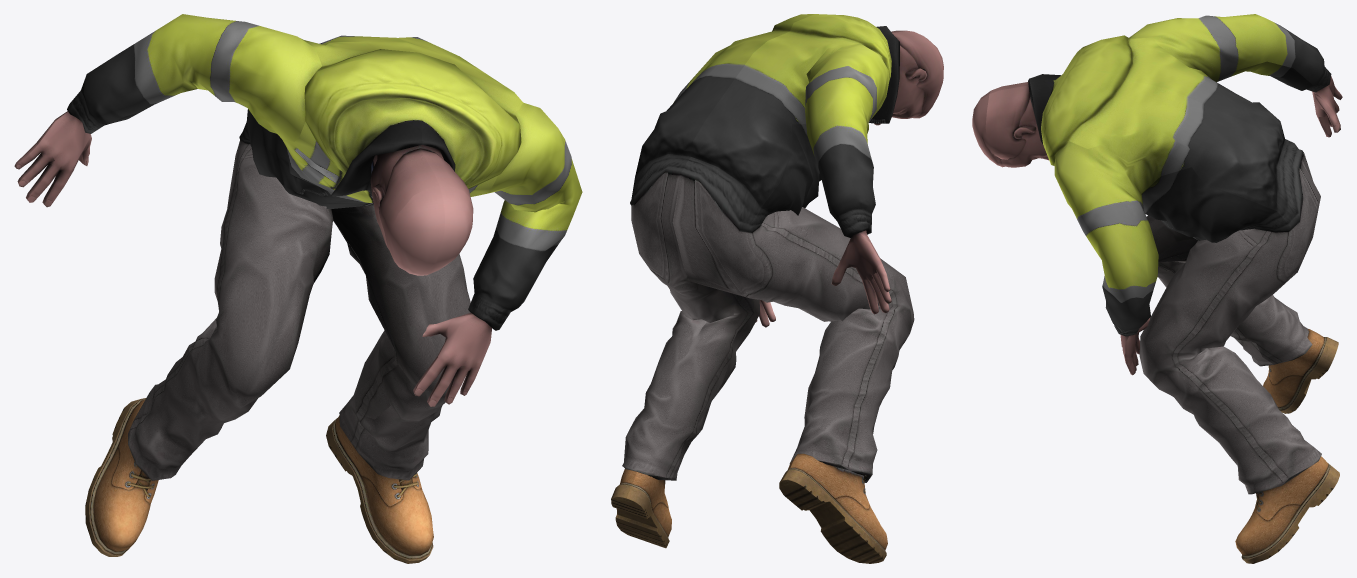
Rendered from survivor.glb.
3 views of the same model, side by side, from view 1: azimuth 30°, elevation 25°; view 2: azimuth 150°, elevation 25°; view 3: azimuth 270°, elevation 25° (orthographic). The views are drawn at different scales.
Parts seen in each view (by area): view 1: geometry_0; view 2: geometry_0; view 3: geometry_0.
Part boxes in pixels (bbox=[...]): geometry_0: bbox=[14, 14, 582, 563]; geometry_0: bbox=[611, 14, 943, 563]; geometry_0: bbox=[972, 14, 1342, 563].
Size of the model in its own units: 0.7472 by 1.02 by 0.7299.
1 material, 1 textured.
